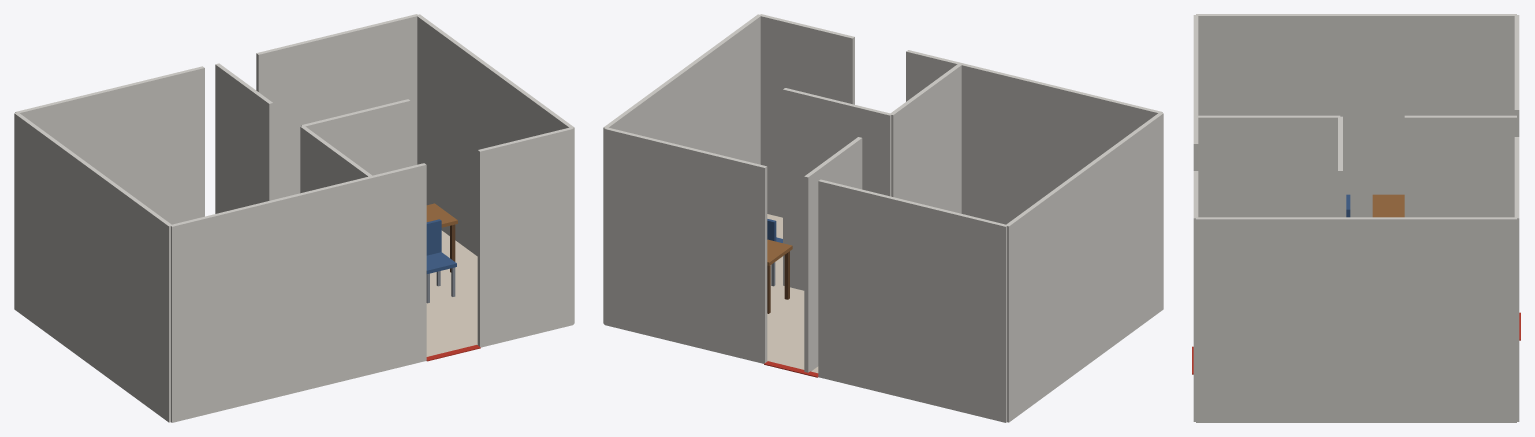
The picture shows the model from 3 angles, left to right: view 1: azimuth 30°, elevation 25°; view 2: azimuth 150°, elevation 25°; view 3: azimuth 270°, elevation 25°; orthographic projection. The views are drawn at different scales.
Visible parts, largest first — view 1: wall_05, wall_06, wall_04, wall_01, wall_03, wall_02, wall_07, wall_09, Floor, wall_08, back; view 2: wall_01, wall_02, wall_06, wall_05, wall_03, wall_09, wall_04, wall_08, wall_07, Floor; view 3: wall_03, wall_06, wall_08, wall_07, wall_02, wall_05, wall_04, top, wall_01, wall_09.
Boxes of the visible parts, x1,y1,x2,y2 form: wall_05: [170, 163, 426, 422]; wall_06: [14, 112, 171, 422]; wall_04: [477, 127, 573, 347]; wall_01: [15, 66, 204, 224]; wall_03: [417, 14, 574, 323]; wall_02: [256, 14, 418, 199]; wall_07: [215, 63, 273, 213]; wall_09: [301, 99, 410, 175]; Floor: [426, 230, 477, 356]; wall_08: [300, 125, 373, 193]; back: [426, 219, 441, 255]; wall_01: [818, 179, 1007, 422]; wall_02: [604, 127, 767, 363]; wall_06: [1006, 112, 1163, 422]; wall_05: [906, 50, 1162, 224]; wall_03: [603, 14, 761, 323]; wall_09: [783, 88, 891, 290]; wall_04: [759, 14, 854, 217]; wall_08: [890, 63, 961, 213]; wall_07: [804, 137, 862, 372]; Floor: [767, 214, 818, 373]; wall_03: [1196, 217, 1516, 422]; wall_06: [1196, 14, 1516, 217]; wall_08: [1198, 115, 1340, 217]; wall_07: [1404, 115, 1516, 217]; wall_02: [1514, 137, 1519, 421]; wall_05: [1193, 15, 1198, 170]; wall_04: [1193, 171, 1198, 421]; top: [1372, 194, 1404, 217]; wall_01: [1514, 15, 1519, 136]; wall_09: [1338, 116, 1342, 217].
Bounding box in the file's own units: 6.06 × 2.8 × 4.1.
